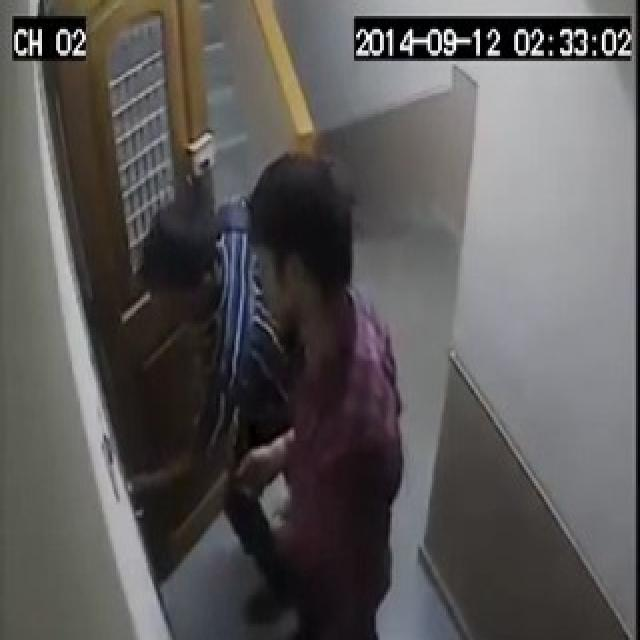thief: (134, 158, 415, 640)
